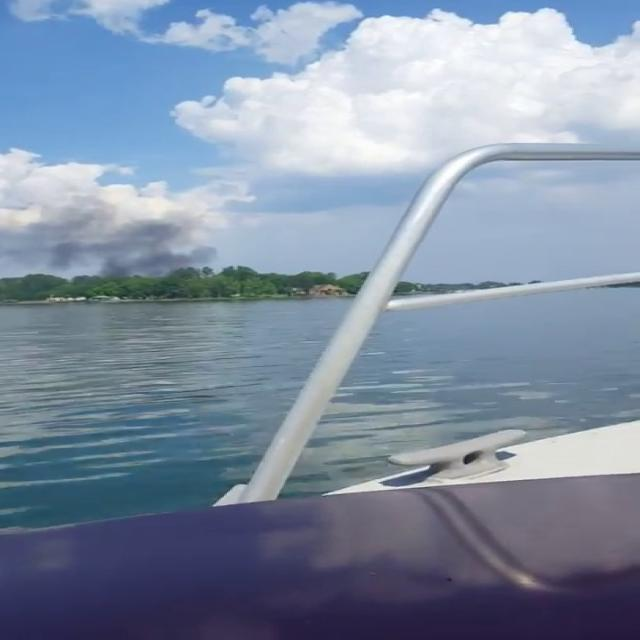Smoke: (41, 198, 229, 280)
